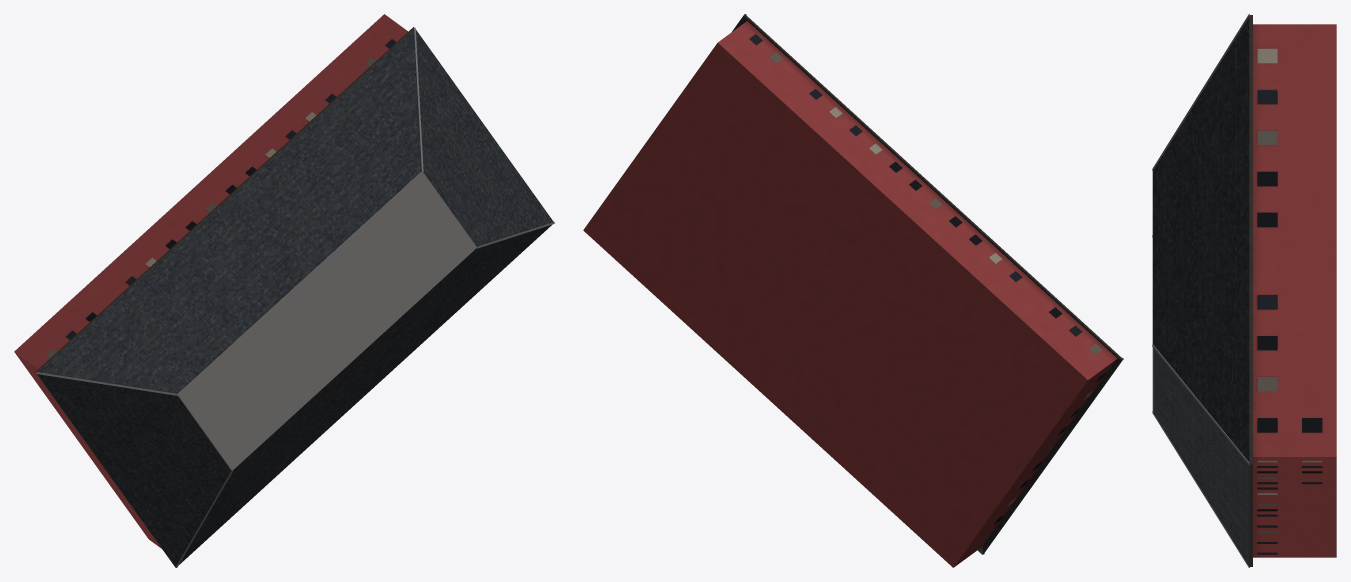
The model's file is house_b0016.obj.
The picture shows the model from 3 angles, left to right: view 1: azimuth 30°, elevation 25°; view 2: azimuth 150°, elevation 25°; view 3: azimuth 270°, elevation 25°; orthographic projection. The views are drawn at different scales.
Parts seen in each view (by area): view 1: house_b0016; view 2: house_b0016; view 3: house_b0016.
Part boxes in pixels (bbox=[...]): house_b0016: bbox=[14, 14, 554, 567]; house_b0016: bbox=[583, 14, 1123, 567]; house_b0016: bbox=[1152, 14, 1336, 567].
Bounding box in the file's own units: 60.81 × 54.04 × 12.4.
1 material, 1 textured.
